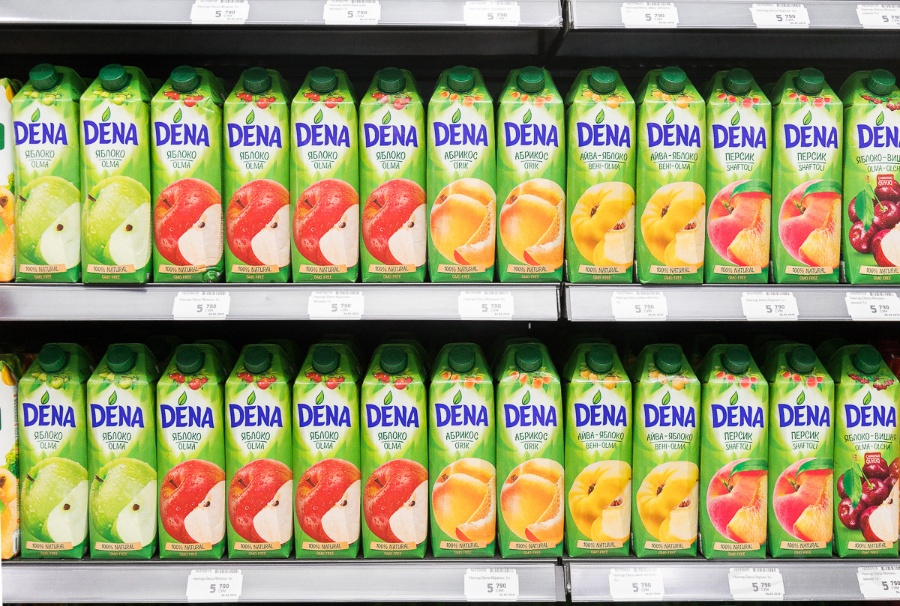juice: (76, 60, 163, 292), (485, 70, 573, 291), (145, 64, 231, 287), (758, 341, 843, 565), (349, 67, 435, 287), (81, 340, 164, 564), (423, 343, 505, 569), (148, 342, 231, 564), (287, 339, 368, 566), (11, 63, 93, 285), (564, 343, 646, 561), (423, 69, 505, 284), (492, 343, 570, 565), (700, 339, 776, 566), (359, 341, 434, 569), (221, 340, 297, 564), (702, 71, 779, 292), (634, 69, 712, 286), (826, 337, 900, 564), (563, 67, 640, 284), (23, 343, 97, 568), (220, 69, 296, 287), (633, 341, 706, 566), (286, 69, 360, 288), (774, 70, 848, 289), (840, 64, 900, 283)
